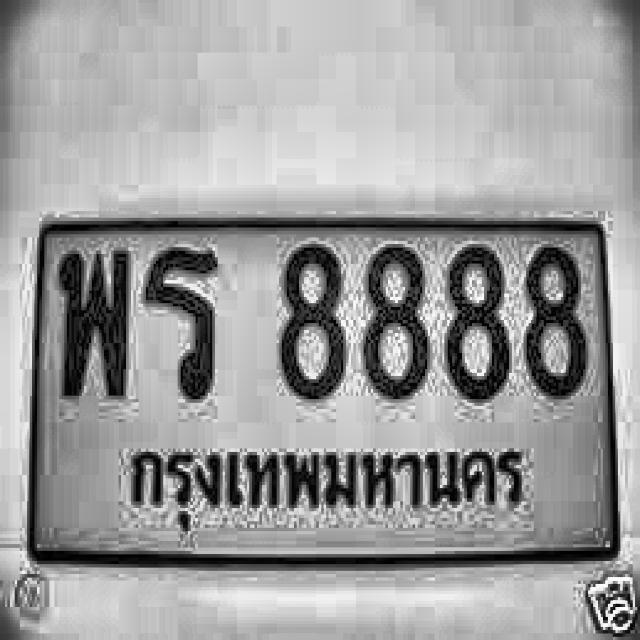license-plate: (21, 193, 632, 574)
